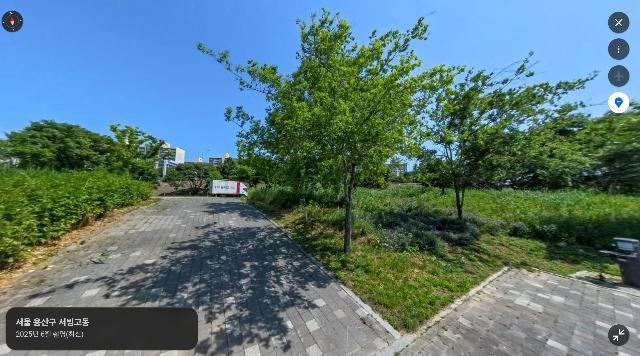other: (195, 6, 439, 254), (400, 50, 602, 222), (502, 100, 640, 195), (4, 119, 125, 175), (108, 122, 171, 185)
